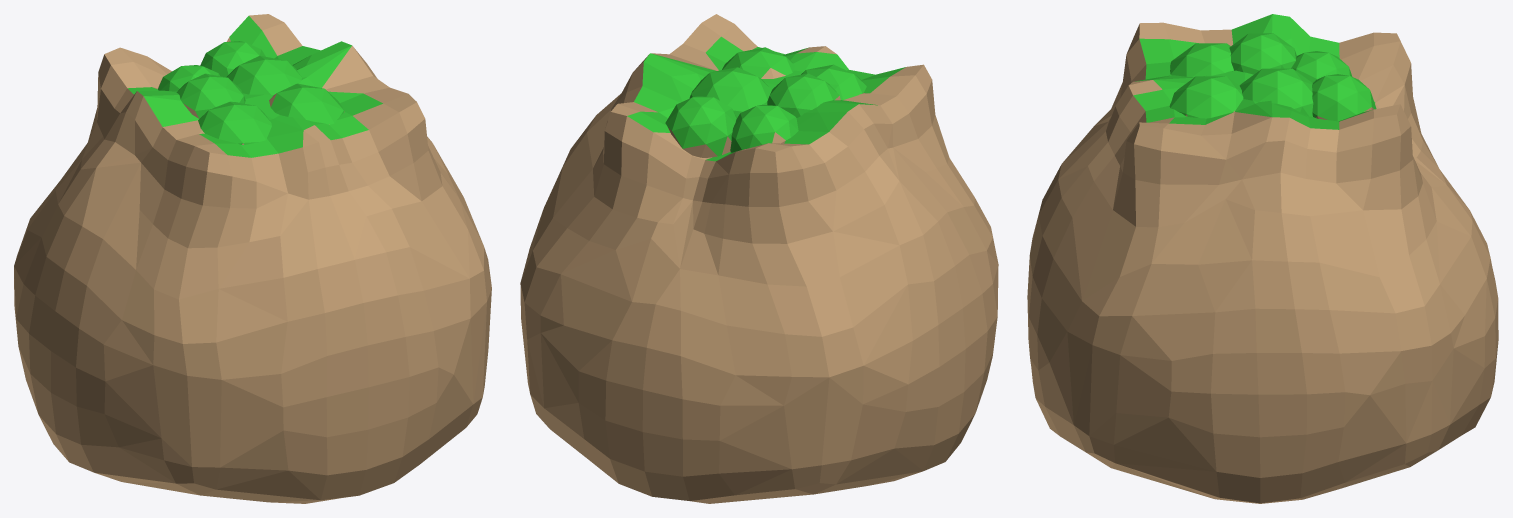
The model's file is Bag_of_Turnips.fbx.
The picture shows the model from 3 angles, left to right: view 1: azimuth 30°, elevation 25°; view 2: azimuth 150°, elevation 25°; view 3: azimuth 270°, elevation 25°; orthographic projection.
Visible parts, largest first — view 1: Turnips; view 2: Turnips; view 3: Turnips.
Part boxes in pixels (x1=…): Turnips: x1=14, y1=14, x2=491, y2=503; Turnips: x1=520, y1=14, x2=998, y2=503; Turnips: x1=1027, y1=14, x2=1498, y2=503.
Bounding box in the file's own units: 1025 × 884 × 1013.
